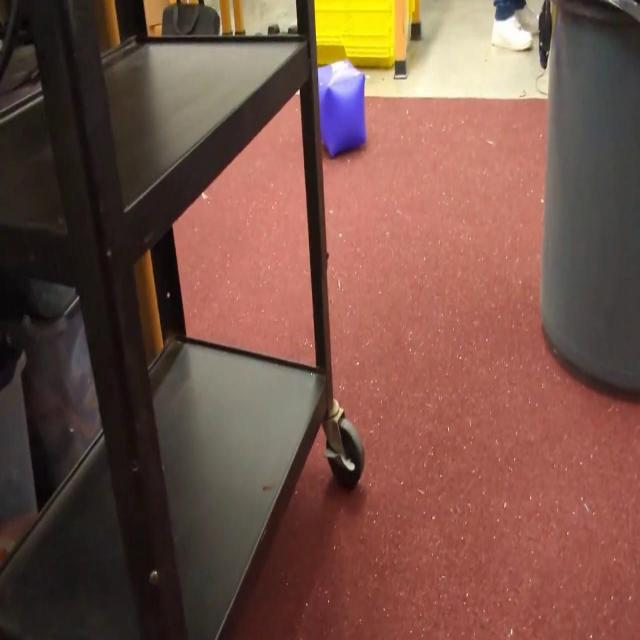frc_cube: (318, 58, 369, 156)
